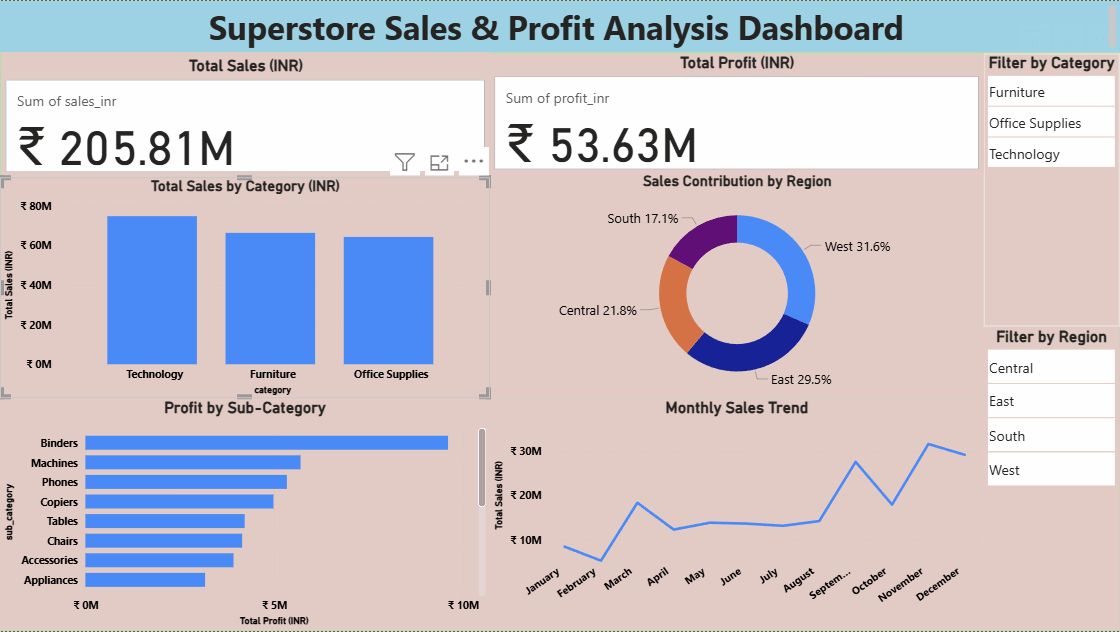

The dashboard page shown, as its layout file describes it:
{"tool":"powerbi","page":{"name":"Superstore Sales & Profit Analysis Dashboard","canvas":[1280,720],"ordinal":0},"visuals":[{"type":"clusteredColumnChart","title":"Total Sales by Category (INR)","fields":{"Y":["Sum(superstore.sales_inr)"],"Category":["superstore.category"]},"box":[0,201,560.2,253.7],"z":0},{"type":"barChart","title":"Profit by Sub-Category","fields":{"Category":["superstore.sub_category"],"Y":["Sum(superstore.profit_inr)"]},"box":[0,454.7,560.2,265.1],"z":1000},{"type":"donutChart","title":"Sales Contribution by Region","fields":{"Category":["superstore.region"],"Y":["Sum(superstore.sales_inr)"]},"box":[559.9,196.2,565.4,258],"z":2000},{"type":"lineChart","title":"Monthly Sales Trend","fields":{"Category":["superstore.order_date.Variation.Date Hierarchy.Month"],"Y":["Sum(superstore.sales_inr)"]},"box":[560.2,454.7,564.5,265.1],"z":3000},{"type":"listSlicer","title":"Filter by Category","fields":{"Values":["superstore.category"]},"box":[1124.6,59.9,155.4,313.6],"z":4000},{"type":"listSlicer","title":"Filter by Region","fields":{"Values":["superstore.region"]},"box":[1124.6,373.5,155.4,346.4],"z":5000},{"type":"cardVisual","title":"Total Sales (INR)","fields":{"Data":["Sum(superstore.sales_inr)"]},"box":[1.4,58.4,558.8,142.5],"z":6000},{"type":"cardVisual","title":"Total Profit (INR)","fields":{"Data":["Sum(superstore.profit_inr)"]},"box":[560.2,59.9,564.5,138.3],"z":7000},{"type":"textbox","box":[0,0,1280,58.4],"z":8000}]}

Visuals, with their boxes in screenshot pixels (x1, y1, x2, y2), scaled from the page's 1280x720 canvas onto the 1120x632 screenshot:
"Total Sales by Category (INR)" clusteredColumnChart: l=0, t=176, r=490, b=399
"Profit by Sub-Category" barChart: l=0, t=399, r=490, b=631
"Sales Contribution by Region" donutChart: l=490, t=172, r=985, b=399
"Monthly Sales Trend" lineChart: l=490, t=399, r=984, b=631
"Filter by Category" listSlicer: l=984, t=53, r=1119, b=328
"Filter by Region" listSlicer: l=984, t=328, r=1119, b=631
"Total Sales (INR)" cardVisual: l=1, t=51, r=490, b=176
"Total Profit (INR)" cardVisual: l=490, t=53, r=984, b=174
textbox: l=0, t=0, r=1119, b=51
